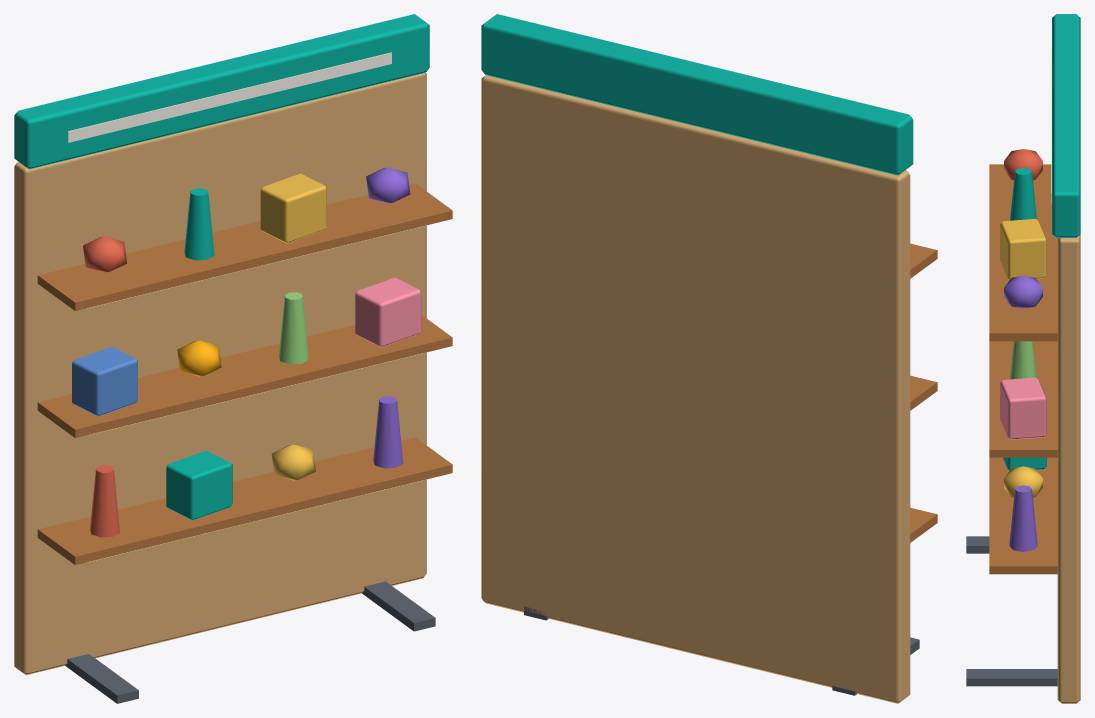
File: station_special_ausstattung_2_3.glb
3 views of the same model, side by side, from view 1: azimuth 30°, elevation 25°; view 2: azimuth 150°, elevation 25°; view 3: azimuth 270°, elevation 25° (orthographic). The views are drawn at different scales.
Parts seen in each view (by area): view 1: station_special_ausstattung_2_3; view 2: station_special_ausstattung_2_3; view 3: station_special_ausstattung_2_3.
Part boxes in pixels (<box>): station_special_ausstattung_2_3: <box>14,14,452,703</box>; station_special_ausstattung_2_3: <box>481,14,937,703</box>; station_special_ausstattung_2_3: <box>966,14,1080,703</box>.
Size of the model in its own units: 1.5 by 1.98 by 0.4.
